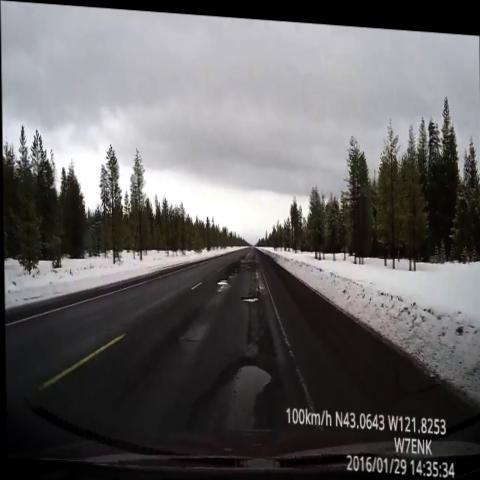pothole: (216, 347, 279, 429), (234, 283, 258, 307), (212, 268, 235, 293), (225, 255, 238, 280)
